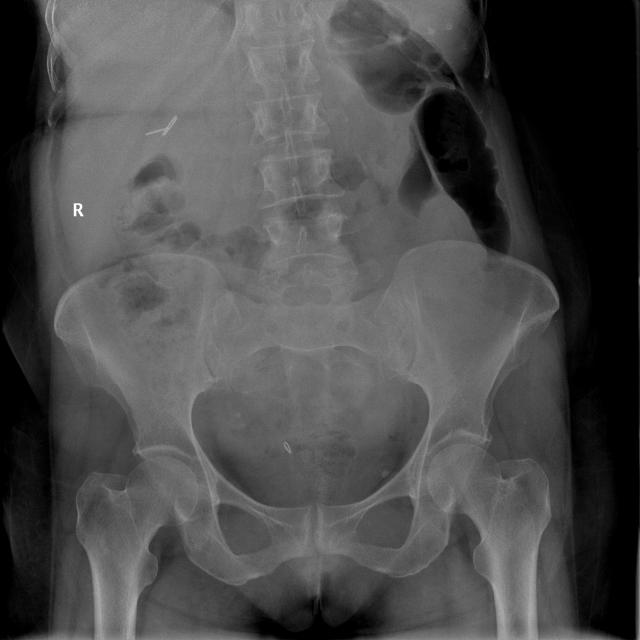normal-left: (427, 442, 552, 640)
normal-right: (75, 456, 200, 639)
